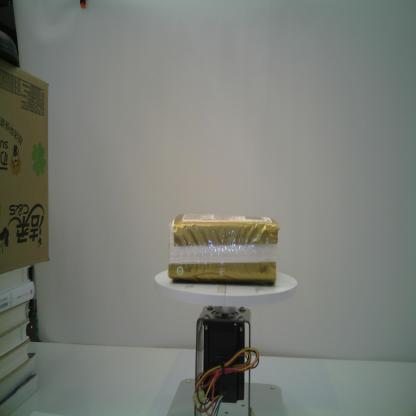Tissue: (166, 212, 281, 286)
